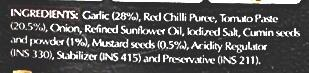ingredients: (6, 4, 305, 66)
